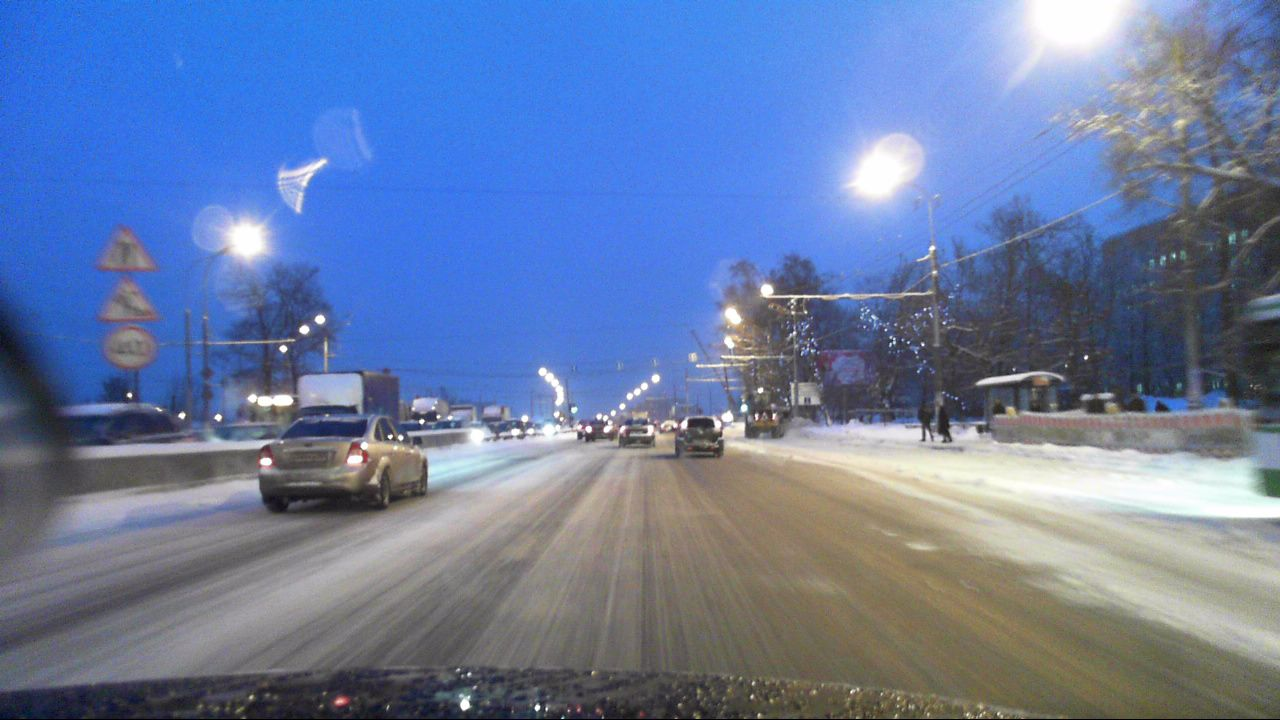speed_warning_40: (103, 325, 158, 370)
